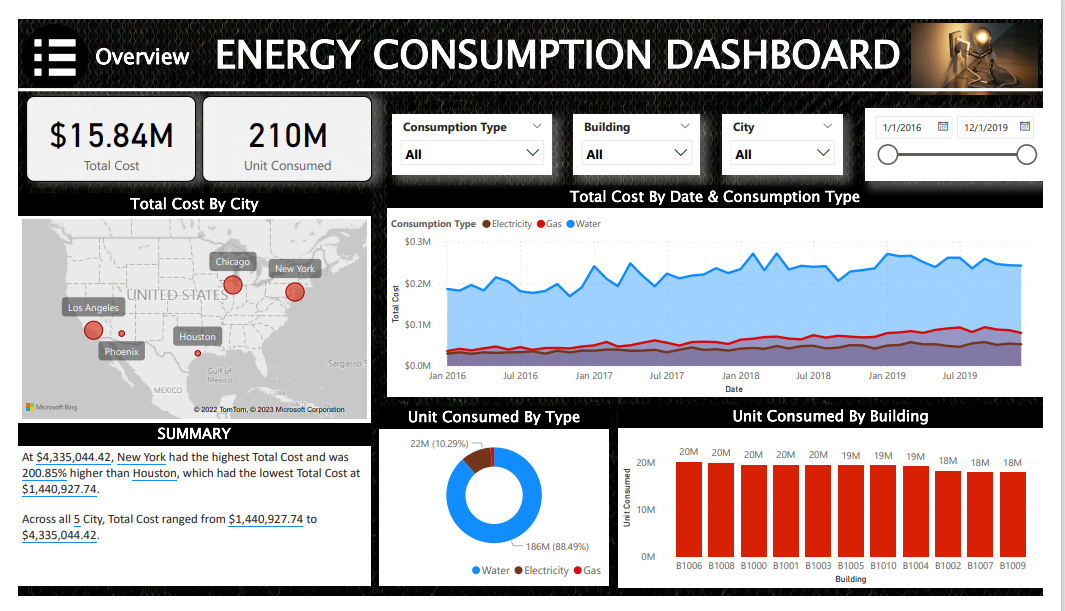

What the dashboard file says about the page in this screenshot:
{"tool":"powerbi","page":{"name":"Overview","canvas":[1280,720],"ordinal":0},"visuals":[{"type":"image","box":[1110.3,0,169.7,99.1],"z":0},{"type":"card","fields":{"Values":["Energy Consumptions.Total Cost"]},"box":[9.6,96.3,212,107.4],"z":0,"group":"g1"},{"type":"image","box":[0,0,92.4,95.7],"z":1000},{"type":"card","fields":{"Values":["Energy Consumptions.Unit Consumed"]},"box":[229.8,96.3,212,107.4],"z":1000,"group":"g1"},{"type":"textbox","box":[65.3,18.7,178.7,77.3],"z":2000},{"type":"slicer","fields":{"Values":["Energy Consumptions.Consumption Type"]},"box":[467.9,119.7,198.2,74.3],"z":2000,"group":"g1"},{"type":"shape","box":[0,77.1,1280,22],"z":3000},{"type":"slicer","fields":{"Values":["Energy Consumptions.Building"]},"box":[693.6,119.7,158.3,74.3],"z":3000,"group":"g1"},{"type":"textbox","box":[154.5,3.4,1038.1,95.7],"z":4000},{"type":"slicer","fields":{"Values":["Building Master.City"]},"box":[879.4,119.7,150,74.3],"z":4000,"group":"g1"},{"type":"slicer","fields":{"Values":["Energy Consumptions.Date"]},"box":[1058.1,110.8,222,92],"z":5000,"group":"g1"},{"type":"map","title":"Total Cost By City","fields":{"Category":["Building Master.City"],"Size":["Energy Consumptions.Total Cost"]},"box":[0,217.5,440.4,286.3],"z":5000},{"type":"areaChart","title":"Total Cost By Date & Consumption Type","fields":{"Category":["Energy Consumptions.Date"],"Series":["Energy Consumptions.Consumption Type"],"Y":["Energy Consumptions.Total Cost"]},"box":[461.1,207.8,818.9,264.3],"z":6000},{"type":"textbox","title":"SUMMARY","box":[0,503.7,440.4,203.7],"z":7000},{"type":"group","id":"g1","title":"Group 1","box":[9.6,96.3,1270.4,107.4],"z":8000},{"type":"donutChart","title":"Unit Consumed By Type","fields":{"Category":["Energy Consumptions.Consumption Type"],"Y":["Energy Consumptions.Unit Consumed"]},"box":[451.4,483.1,286.3,224.3],"z":9000},{"type":"clusteredColumnChart","title":"Unit Consumed By Building","fields":{"Category":["Energy Consumptions.Building"],"Y":["Energy Consumptions.Unit Consumed"]},"box":[750.1,481.7,529.9,228.5],"z":10000},{"type":"actionButton","box":[0,0,92,86.7],"z":13000}]}

Visuals, with their boxes in screenshot pixels (x1, y1, x2, y2), scaled from the page's 1280x720 canvas onto the 1065x611 screenshot:
image: {"left": 924, "top": 0, "right": 1064, "bottom": 84}
card - Energy Consumptions.Total Cost: {"left": 8, "top": 82, "right": 184, "bottom": 173}
image: {"left": 0, "top": 0, "right": 77, "bottom": 81}
card - Energy Consumptions.Unit Consumed: {"left": 191, "top": 82, "right": 368, "bottom": 173}
textbox: {"left": 54, "top": 16, "right": 203, "bottom": 81}
slicer - Energy Consumptions.Consumption Type: {"left": 389, "top": 102, "right": 554, "bottom": 165}
shape: {"left": 0, "top": 65, "right": 1064, "bottom": 84}
slicer - Energy Consumptions.Building: {"left": 577, "top": 102, "right": 709, "bottom": 165}
textbox: {"left": 129, "top": 3, "right": 992, "bottom": 84}
slicer - Building Master.City: {"left": 732, "top": 102, "right": 856, "bottom": 165}
slicer - Energy Consumptions.Date: {"left": 880, "top": 94, "right": 1064, "bottom": 172}
"Total Cost By City" map: {"left": 0, "top": 185, "right": 366, "bottom": 428}
"Total Cost By Date & Consumption Type" areaChart: {"left": 384, "top": 176, "right": 1064, "bottom": 401}
"SUMMARY" textbox: {"left": 0, "top": 427, "right": 366, "bottom": 600}
"Group 1" group: {"left": 8, "top": 82, "right": 1064, "bottom": 173}
"Unit Consumed By Type" donutChart: {"left": 376, "top": 410, "right": 614, "bottom": 600}
"Unit Consumed By Building" clusteredColumnChart: {"left": 624, "top": 409, "right": 1064, "bottom": 603}
actionButton: {"left": 0, "top": 0, "right": 77, "bottom": 74}
